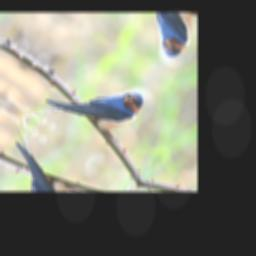Swallow: (21, 43, 151, 165)
